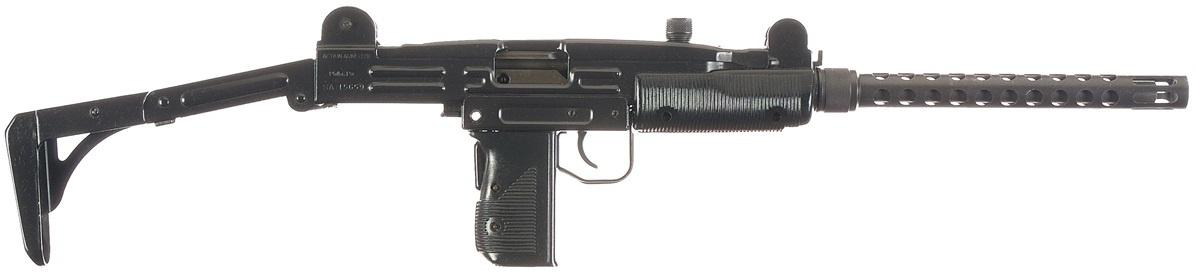blood: (4, 2, 1192, 270)
